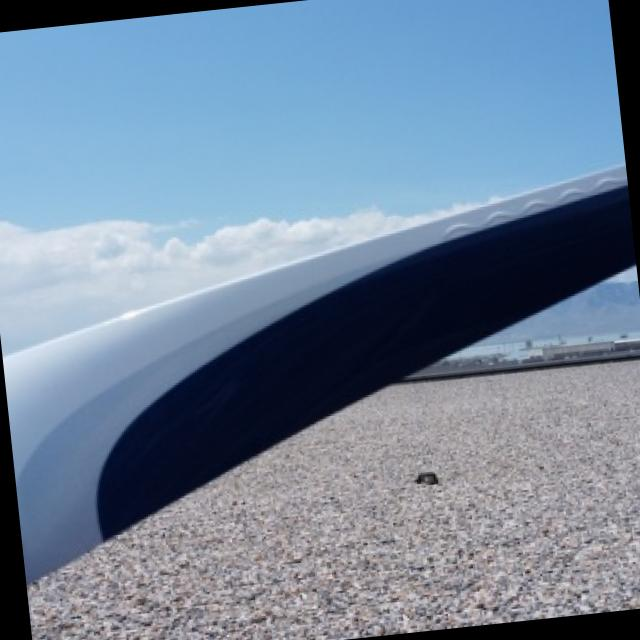healthy: (2, 164, 633, 576)
